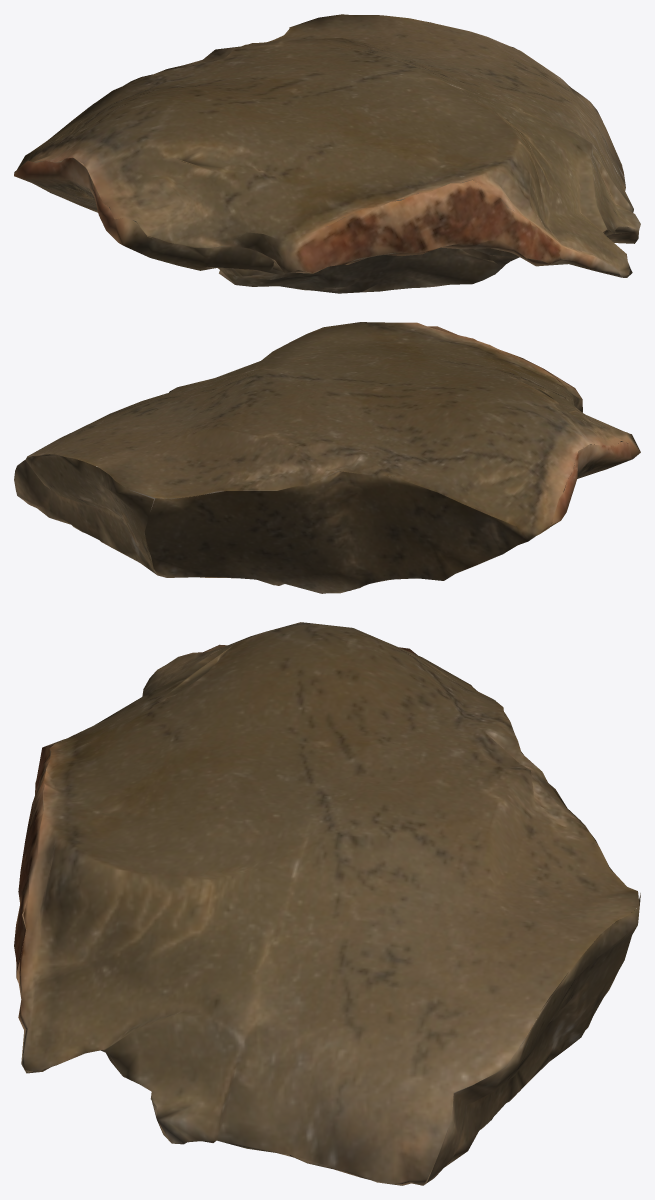
Rendered from namaqualand_stones_01_3.gltf.
3 views of the same model, one above another, from view 1: azimuth 30°, elevation 25°; view 2: azimuth 150°, elevation 25°; view 3: azimuth 270°, elevation 25° (orthographic). The views are drawn at different scales.
Visible parts, largest first — view 1: namaqualand_stones_01_d; view 2: namaqualand_stones_01_d; view 3: namaqualand_stones_01_d.
Boxes of the visible parts, x1,y1,x2,y2 form: namaqualand_stones_01_d: [14, 14, 640, 293]; namaqualand_stones_01_d: [14, 322, 640, 593]; namaqualand_stones_01_d: [14, 622, 640, 1185].
Bounding box in the file's own units: 0.1147 × 0.0368 × 0.0825.
Materials: 1 (1 with a texture image).
